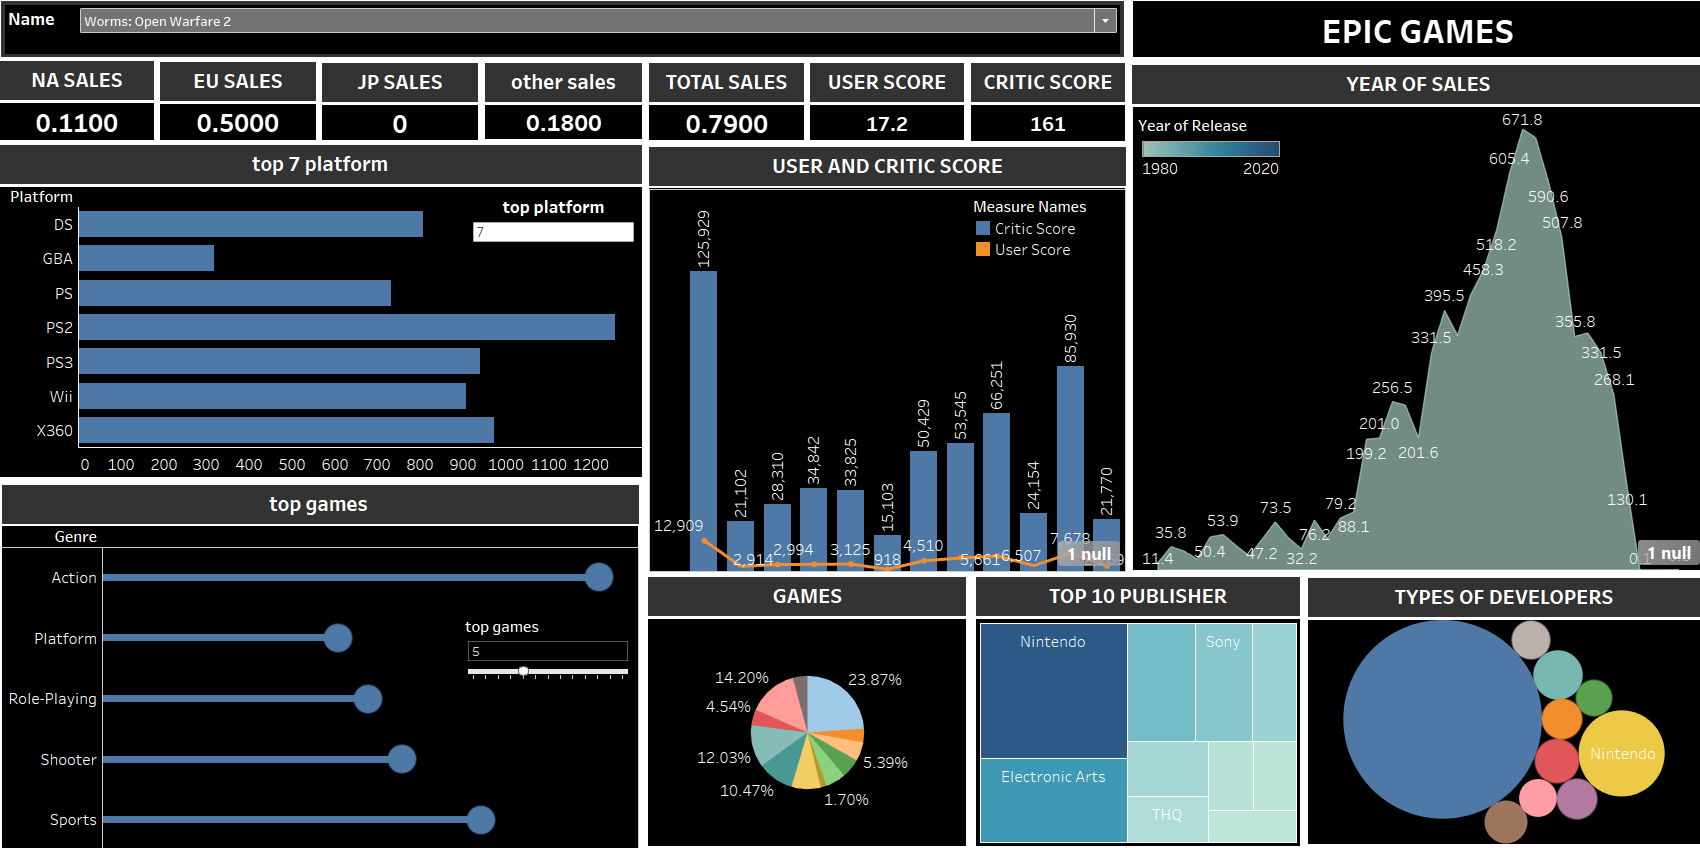

What the dashboard file says about the page in this screenshot:
{"tool":"tableau","page":{"name":"Dashboard 1","canvas":[1000,1000],"units":"permille","ordinal":0},"visuals":[{"type":"filter","title":"Sheet 11","param":"[federated.1s9def30f8q5gd1bxh4vh0ejtb89].[none:Name:nk]","box":[2.4,8.7,653,66.2]},{"type":"worksheet","title":"Sheet 18","mark":"Automatic","box":[660.2,8.7,330.7,66.2]},{"type":"worksheet","title":"Sheet 11 (3)","mark":"Automatic","box":[1.8,78.7,89.7,92.4]},{"type":"worksheet","title":"Sheet 11 (2)","mark":"Automatic","box":[94.5,79.9,90.9,91.1]},{"type":"worksheet","title":"Sheet 11 (4)","mark":"Automatic","box":[189.1,81.2,90.9,89.9]},{"type":"worksheet","title":"Sheet 11 (5)","mark":"Automatic","box":[283.6,81.2,91.5,88.6]},{"type":"worksheet","title":"Sheet 11","mark":"Automatic","box":[378.8,81.2,90.3,89.9]},{"type":"worksheet","title":"Sheet 11 (7)","mark":"Automatic","box":[472.7,81.2,89.7,89.9]},{"type":"worksheet","title":"Sheet 11 (6)","mark":"Automatic","box":[566.1,81.2,89.7,91.1]},{"type":"worksheet","title":"Sheet 5","mark":"Area","rows":["Global_Sales"],"cols":["Year_of_Release"],"box":[660,83.7,333.3,586.8]},{"type":"legend","title":"Sheet 5","param":"[federated.1s9def30f8q5gd1bxh4vh0ejtb89].[none:Year_of_Release:qk]","box":[663.6,142.3,84.9,109.9]},{"type":"worksheet","title":"Sheet 1","mark":"Automatic","rows":["Platform"],"cols":["Global_Sales"],"box":[0.6,177.3,374.2,387]},{"type":"worksheet","title":"Sheet 6","mark":"Bar","rows":["Critic_Score","User_Score"],"cols":["Genre"],"box":[378.8,178.5,277.6,494.4]},{"type":"parameter","param":"[Parameters].[Parameter 1]","box":[275.2,234.7,97,59.9]},{"type":"legend","title":"Sheet 6","param":"[federated.1s9def30f8q5gd1bxh4vh0ejtb89].[:Measure Names]","box":[567.3,236,84.9,79.9]},{"type":"worksheet","title":"Sheet 3","mark":"Automatic","rows":["Genre"],"cols":["Global_Sales","Global_Sales"],"box":[3,571.8,370.6,425.7]},{"type":"worksheet","title":"Sheet 10","mark":"Pie","box":[378.4,679.1,185.3,313.4]},{"type":"worksheet","title":"Sheet 7","mark":"Automatic","box":[569.1,679.1,188.3,313.4]},{"type":"worksheet","title":"Sheet 8","mark":"Circle","box":[762.2,680.4,228.1,309.6]},{"type":"parameter","param":"[Parameters].[Parameter 2]","box":[272.2,724.1,96.6,88.6]}]}

Visuals, with their boxes on the dashboard's canvas, which has no fixed pixel size, in thousandths of its width and height (x1, y1, x2, y2). These are canvas units, not pixel positions in the 1700x848 screenshot, which may show the page scaled, cropped or inside an application window:
"Sheet 11" filter: bbox=[2, 9, 655, 75]
"Sheet 18" worksheet: bbox=[660, 9, 991, 75]
"Sheet 11 (3)" worksheet: bbox=[2, 79, 92, 171]
"Sheet 11 (2)" worksheet: bbox=[94, 80, 185, 171]
"Sheet 11 (4)" worksheet: bbox=[189, 81, 280, 171]
"Sheet 11 (5)" worksheet: bbox=[284, 81, 375, 170]
"Sheet 11" worksheet: bbox=[379, 81, 469, 171]
"Sheet 11 (7)" worksheet: bbox=[473, 81, 562, 171]
"Sheet 11 (6)" worksheet: bbox=[566, 81, 656, 172]
"Sheet 5" worksheet (Area marks): bbox=[660, 84, 993, 670]
"Sheet 5" legend: bbox=[664, 142, 748, 252]
"Sheet 1" worksheet: bbox=[1, 177, 375, 564]
"Sheet 6" worksheet (Bar marks): bbox=[379, 178, 656, 673]
parameter: bbox=[275, 235, 372, 295]
"Sheet 6" legend: bbox=[567, 236, 652, 316]
"Sheet 3" worksheet: bbox=[3, 572, 374, 998]
"Sheet 10" worksheet (Pie marks): bbox=[378, 679, 564, 992]
"Sheet 7" worksheet: bbox=[569, 679, 757, 992]
"Sheet 8" worksheet (Circle marks): bbox=[762, 680, 990, 990]
parameter: bbox=[272, 724, 369, 813]
